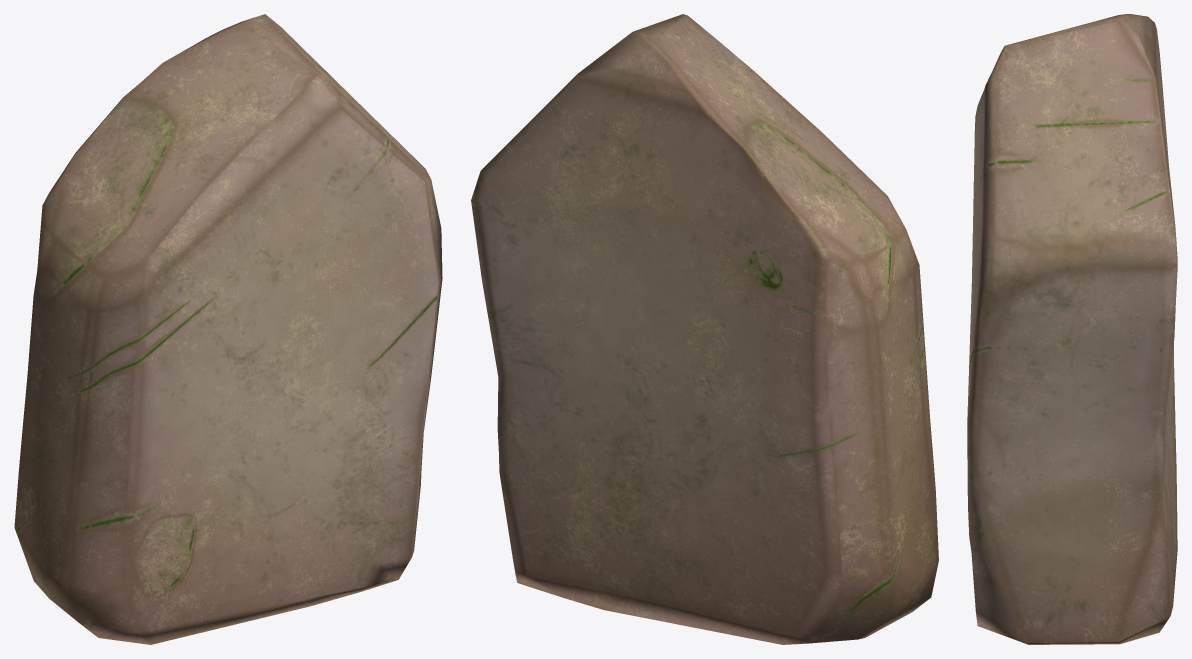
Rendered from Rune02_low_01.fbx.
3 renders of one model, left to right at view 1: azimuth 30°, elevation 25°; view 2: azimuth 150°, elevation 25°; view 3: azimuth 270°, elevation 25°, orthographic. The views are drawn at different scales.
Parts seen in each view (by area): view 1: Rune02_low_01; view 2: Rune02_low_01; view 3: Rune02_low_01.
Boxes of the visible parts, x1,y1,x2,y2 form: Rune02_low_01: [14, 14, 442, 644]; Rune02_low_01: [471, 14, 938, 644]; Rune02_low_01: [967, 14, 1177, 644].
Bounding box in the file's own units: 1.8 × 2.47 × 0.8217.
1 material, 1 textured.
